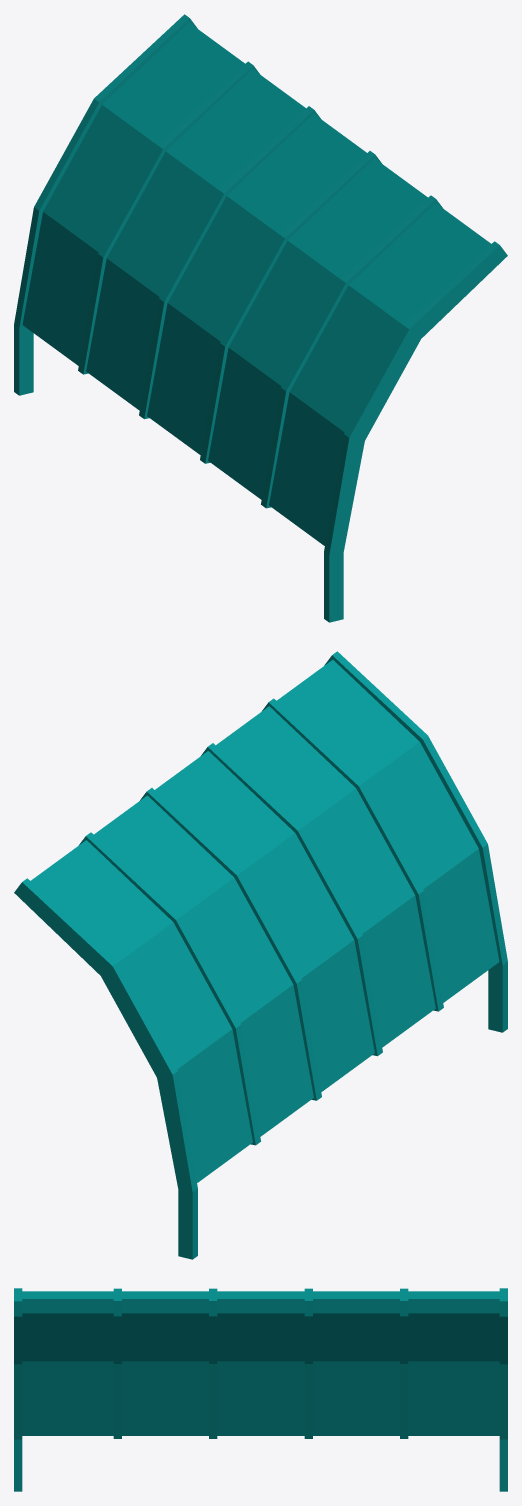
File: SM_tram_station_01.glb
3 views of the same model, one above another, from view 1: azimuth 30°, elevation 25°; view 2: azimuth 150°, elevation 25°; view 3: azimuth 270°, elevation 25° (orthographic). The views are drawn at different scales.
Parts seen in each view (by area): view 1: SM_tram_station_01; view 2: SM_tram_station_01; view 3: SM_tram_station_01.
Boxes of the visible parts, x1,y1,x2,y2 form: SM_tram_station_01: [14, 14, 507, 622]; SM_tram_station_01: [14, 651, 507, 1259]; SM_tram_station_01: [14, 1288, 507, 1491].
Size of the model in its own units: 0.677 by 1.22 by 2.07.
1 material, 1 textured.
